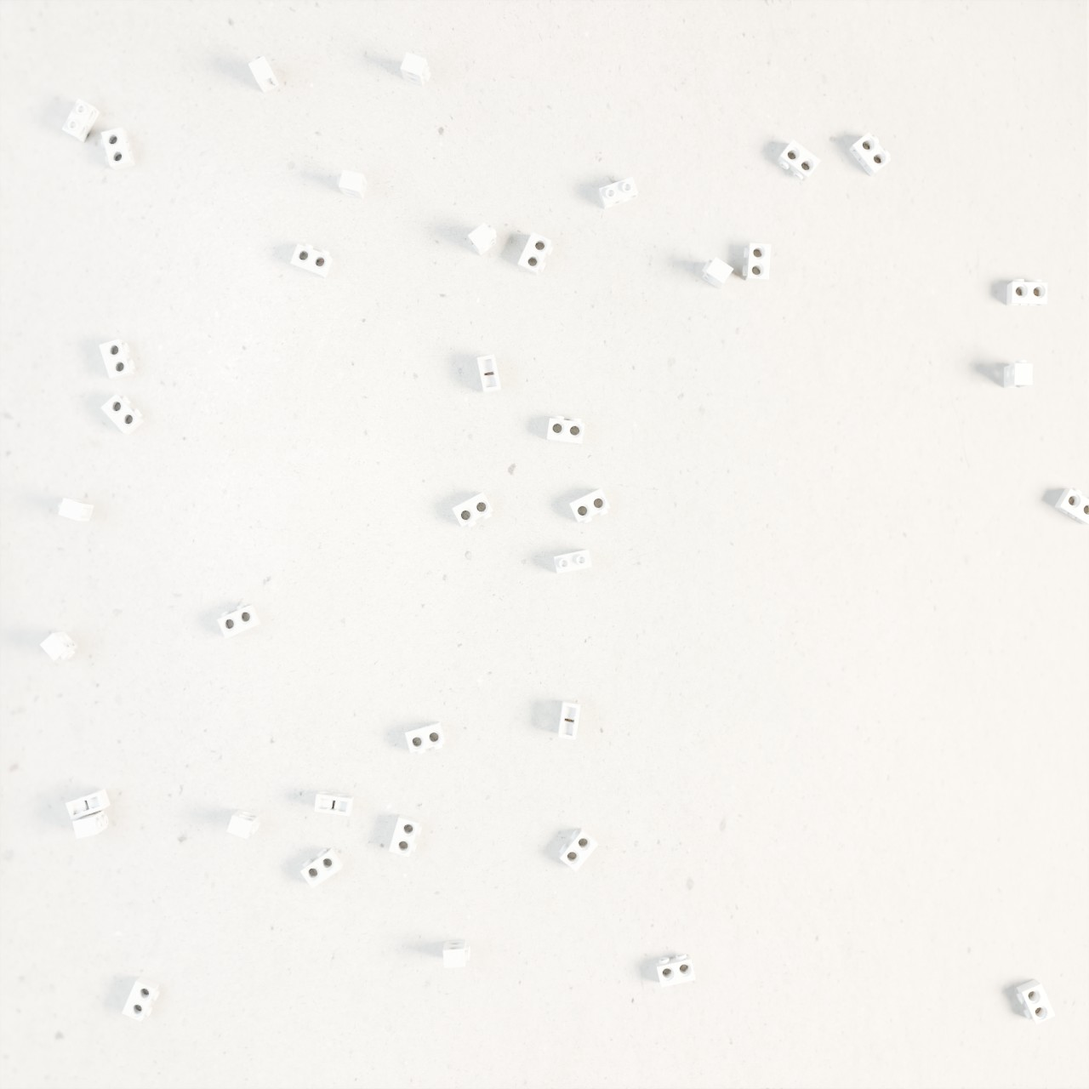lego: (849, 132, 891, 177), (778, 139, 821, 181), (100, 394, 144, 435), (121, 976, 160, 1022), (300, 848, 343, 889), (1016, 979, 1055, 1024), (559, 828, 598, 872), (62, 98, 100, 143), (217, 603, 261, 639), (452, 492, 494, 529), (290, 243, 333, 279), (100, 127, 135, 171), (518, 232, 553, 276), (99, 339, 135, 380), (569, 488, 610, 524), (65, 788, 111, 820), (388, 814, 422, 857), (655, 953, 696, 988), (405, 721, 446, 755), (1054, 487, 1089, 525), (598, 177, 638, 210), (248, 56, 280, 93), (1007, 279, 1048, 307), (40, 631, 78, 661), (547, 415, 585, 445), (743, 243, 771, 282), (400, 52, 431, 87), (226, 809, 260, 839), (72, 811, 108, 839), (314, 791, 354, 816), (477, 354, 502, 394), (702, 257, 733, 289), (468, 222, 497, 256), (337, 169, 368, 200), (554, 549, 592, 574), (558, 700, 581, 740), (58, 498, 94, 522), (1004, 360, 1033, 388), (443, 940, 470, 968)
